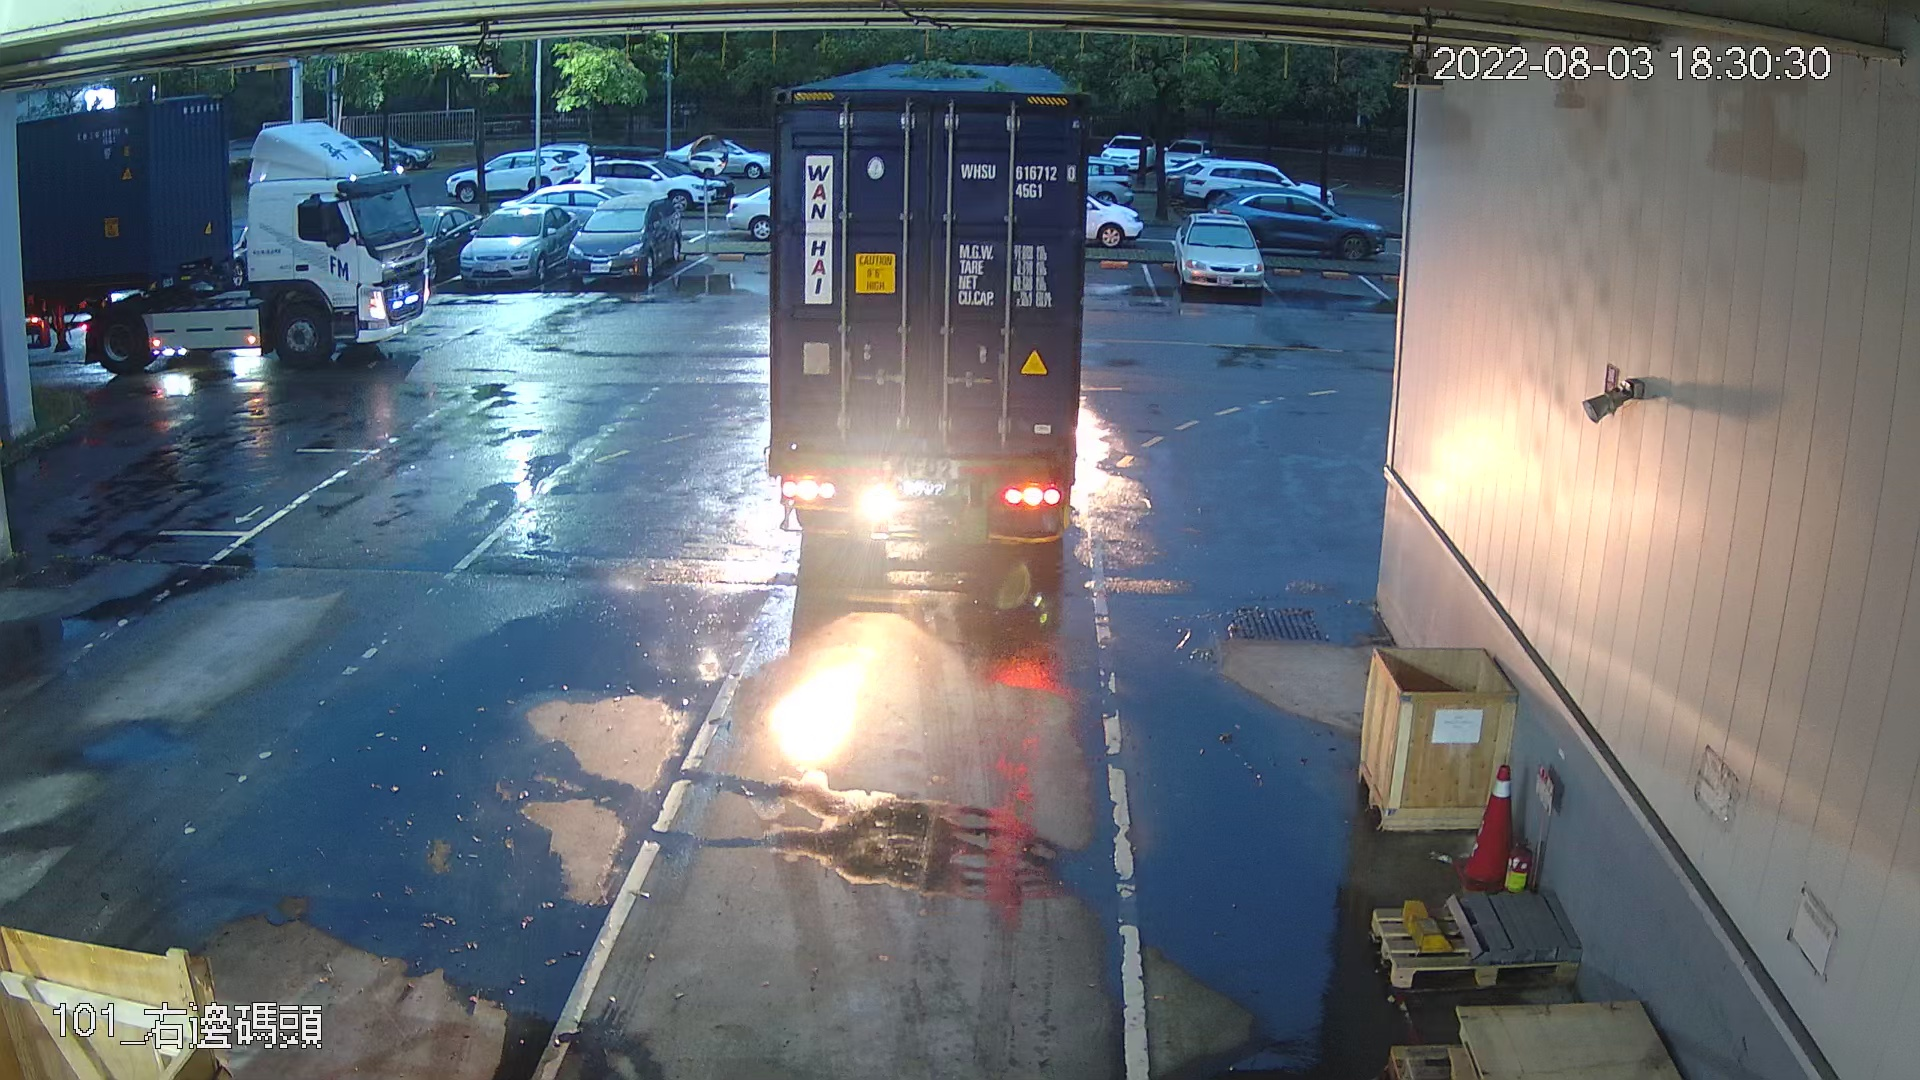container: (956, 158, 1083, 207)
